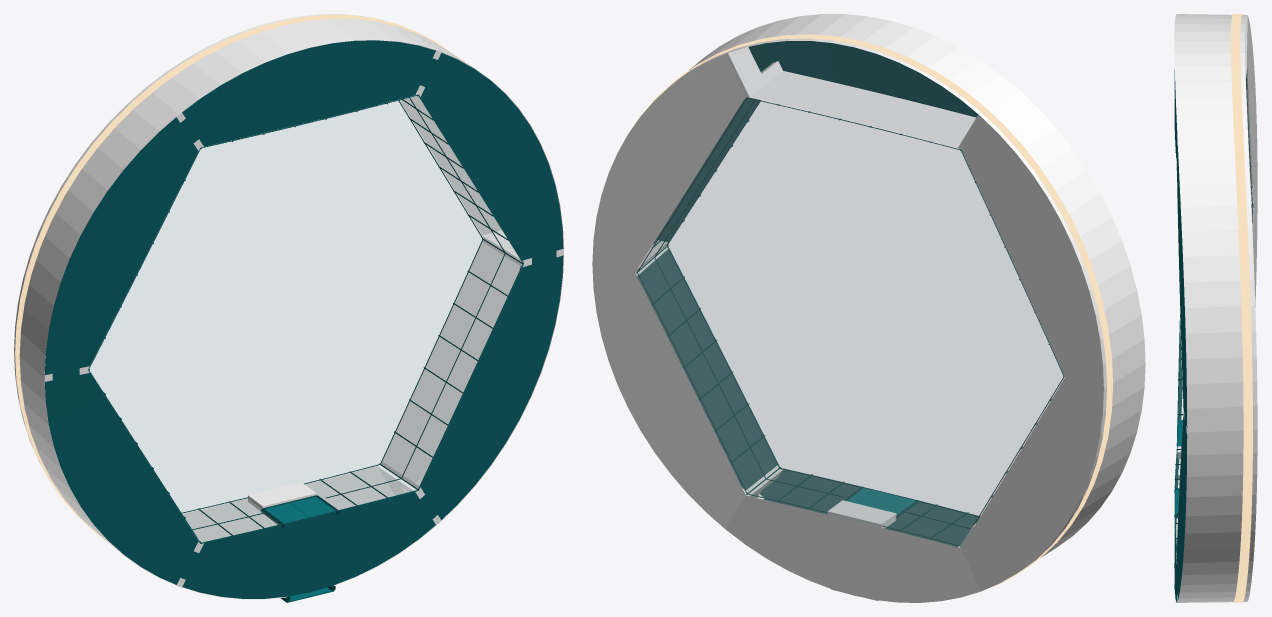
Rendered from museum_building.glb.
3 renders of one model, left to right at view 1: azimuth 30°, elevation 25°; view 2: azimuth 150°, elevation 25°; view 3: azimuth 270°, elevation 25°, orthographic. The views are drawn at different scales.
Visible parts, largest first — view 1: Museum Mittelraum, Museum Böden, Museum, Museum Innenwand Glas, Museum Fensterband, Museum Innenwand Rahmen, Museum Wände mit Durchgang, Museum Center-Tür Sturz; view 2: Museum Mittelraum, Museum, Museum Böden, Museum Innenwand, Museum Fensterband, Museum Innenwand Rahmen, Museum Wände mit Durchgang, Museum Center-Tür Sturz; view 3: Museum, Museum Fensterband, Museum Böden, Museum Mittelraum, Museum Wände mit Durchgang, Museum Innenwand, Museum Innenwand Glas, Museum Innenwand Rahmen, Museum Raum 6 Tür Flügel.
Part boxes in pixels (box(x1,y1,x2,y2)): Museum Mittelraum: box(90, 101, 483, 512); Museum Böden: box(44, 40, 563, 598); Museum: box(14, 14, 563, 599); Museum Innenwand Glas: box(183, 96, 521, 541); Museum Fensterband: box(15, 14, 456, 540); Museum Innenwand Rahmen: box(89, 95, 523, 542); Museum Wände mit Durchgang: box(44, 41, 563, 587); Museum Center-Tür Sturz: box(248, 482, 316, 511); Museum Mittelraum: box(636, 97, 1064, 547); Museum: box(592, 14, 1145, 602); Museum Böden: box(637, 41, 980, 547); Museum Innenwand: box(749, 71, 975, 148); Museum Fensterband: box(623, 34, 1112, 598); Museum Innenwand Rahmen: box(636, 97, 1064, 546); Museum Wände mit Durchgang: box(635, 47, 980, 547); Museum Center-Tür Sturz: box(827, 500, 896, 530); Museum: box(1174, 14, 1257, 602); Museum Fensterband: box(1231, 14, 1252, 602); Museum Böden: box(1174, 70, 1187, 601); Museum Mittelraum: box(1247, 68, 1253, 231); Museum Wände mit Durchgang: box(1176, 16, 1253, 601); Museum Innenwand: box(1174, 63, 1247, 552); Museum Innenwand Glas: box(1176, 336, 1182, 533); Museum Innenwand Rahmen: box(1174, 74, 1253, 538); Museum Raum 6 Tür Flügel: box(1176, 419, 1182, 446).
Bounding box in the file's own units: 49.85 × 50.5 × 7.07.
